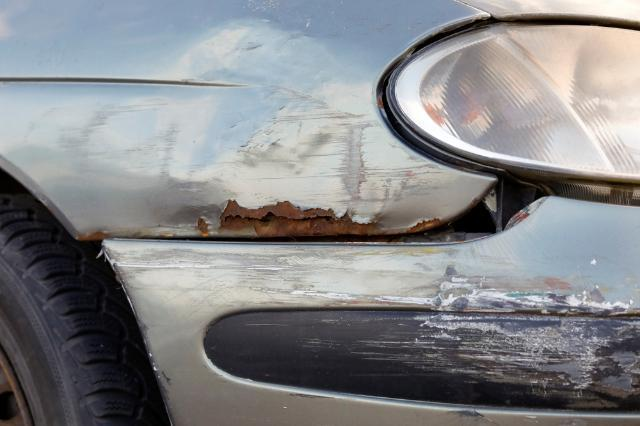crack: (222, 211, 330, 224)
dent: (164, 25, 359, 210)
dislocated part: (109, 174, 640, 426)
scratch: (102, 237, 640, 426), (26, 92, 186, 182), (350, 113, 454, 219)
